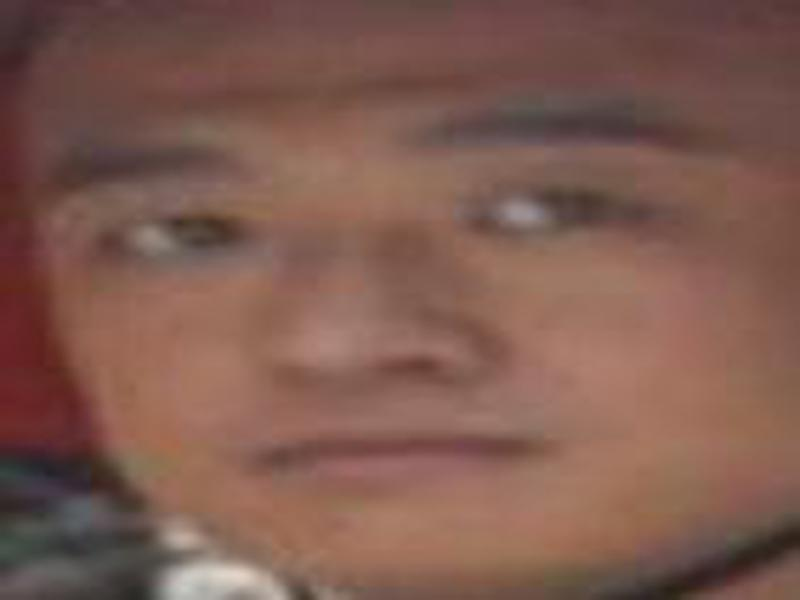without_mask: (23, 78, 800, 600)
